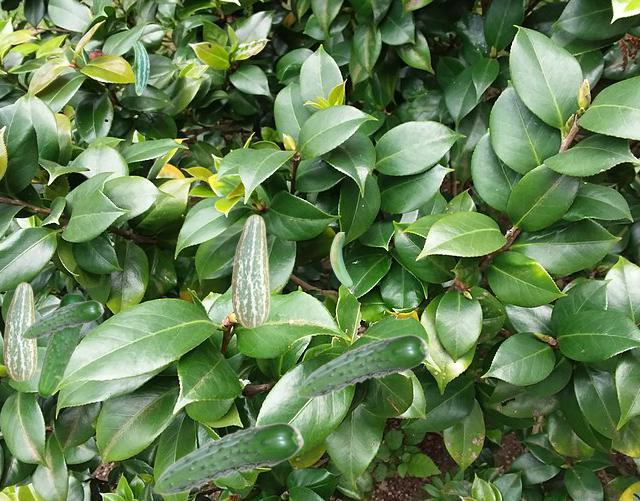cucumber: (152, 422, 303, 494), (297, 334, 429, 397), (36, 293, 86, 396), (231, 214, 269, 327), (3, 282, 36, 380), (22, 300, 103, 338), (330, 232, 351, 285), (133, 41, 148, 94)
